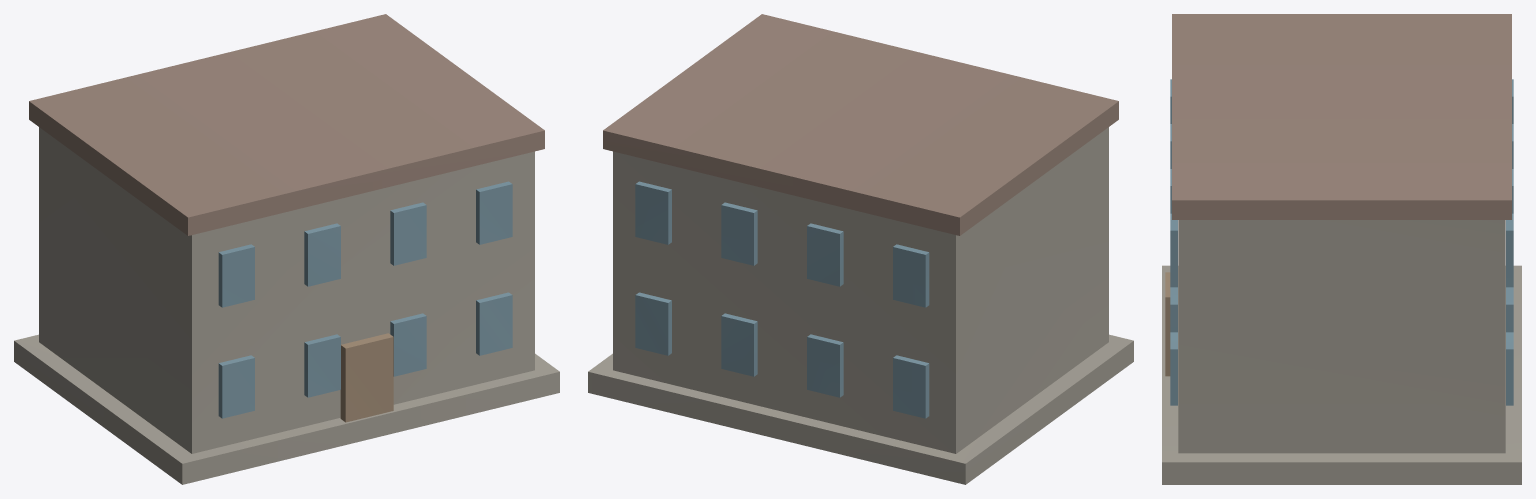
The model's file is warehouse-06.glb.
3 views of the same model, side by side, from view 1: azimuth 30°, elevation 25°; view 2: azimuth 150°, elevation 25°; view 3: azimuth 270°, elevation 25° (orthographic). The views are drawn at different scales.
Visible parts, largest first — view 1: world; view 2: world; view 3: world.
Boxes of the visible parts, x1=… form: world: x1=14, y1=14, x2=559, y2=484; world: x1=588, y1=14, x2=1133, y2=484; world: x1=1162, y1=14, x2=1521, y2=484.
Bounding box in the file's own units: 1.5 × 0.99 × 1.15.
